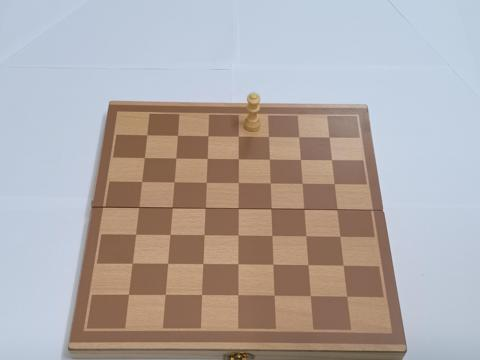xcorner: (128, 259, 138, 269), (294, 132, 304, 142), (306, 292, 316, 302), (143, 131, 153, 140), (141, 153, 150, 163), (138, 177, 147, 187), (132, 230, 141, 240), (125, 290, 134, 300), (168, 203, 177, 213), (163, 260, 173, 269), (204, 131, 213, 141), (203, 154, 212, 164), (202, 178, 211, 188), (197, 291, 207, 300), (234, 154, 243, 164), (234, 204, 243, 214), (234, 231, 243, 241), (234, 260, 243, 270), (234, 291, 243, 301), (296, 155, 305, 165), (298, 179, 307, 189), (302, 232, 311, 242), (304, 261, 313, 271), (324, 133, 334, 142), (333, 205, 342, 215), (135, 203, 144, 212), (174, 131, 183, 140), (172, 154, 181, 163), (170, 178, 179, 187), (166, 231, 175, 240), (161, 291, 170, 300), (201, 204, 210, 213), (200, 231, 209, 240), (199, 260, 208, 269), (234, 132, 243, 141), (234, 179, 243, 188), (264, 132, 273, 141), (265, 155, 274, 164), (266, 179, 275, 188), (267, 205, 276, 214), (268, 232, 277, 241), (269, 261, 278, 270), (270, 292, 279, 301), (300, 205, 309, 214), (327, 156, 336, 165), (330, 180, 339, 189), (336, 233, 345, 242), (339, 262, 348, 271), (343, 293, 352, 302)
